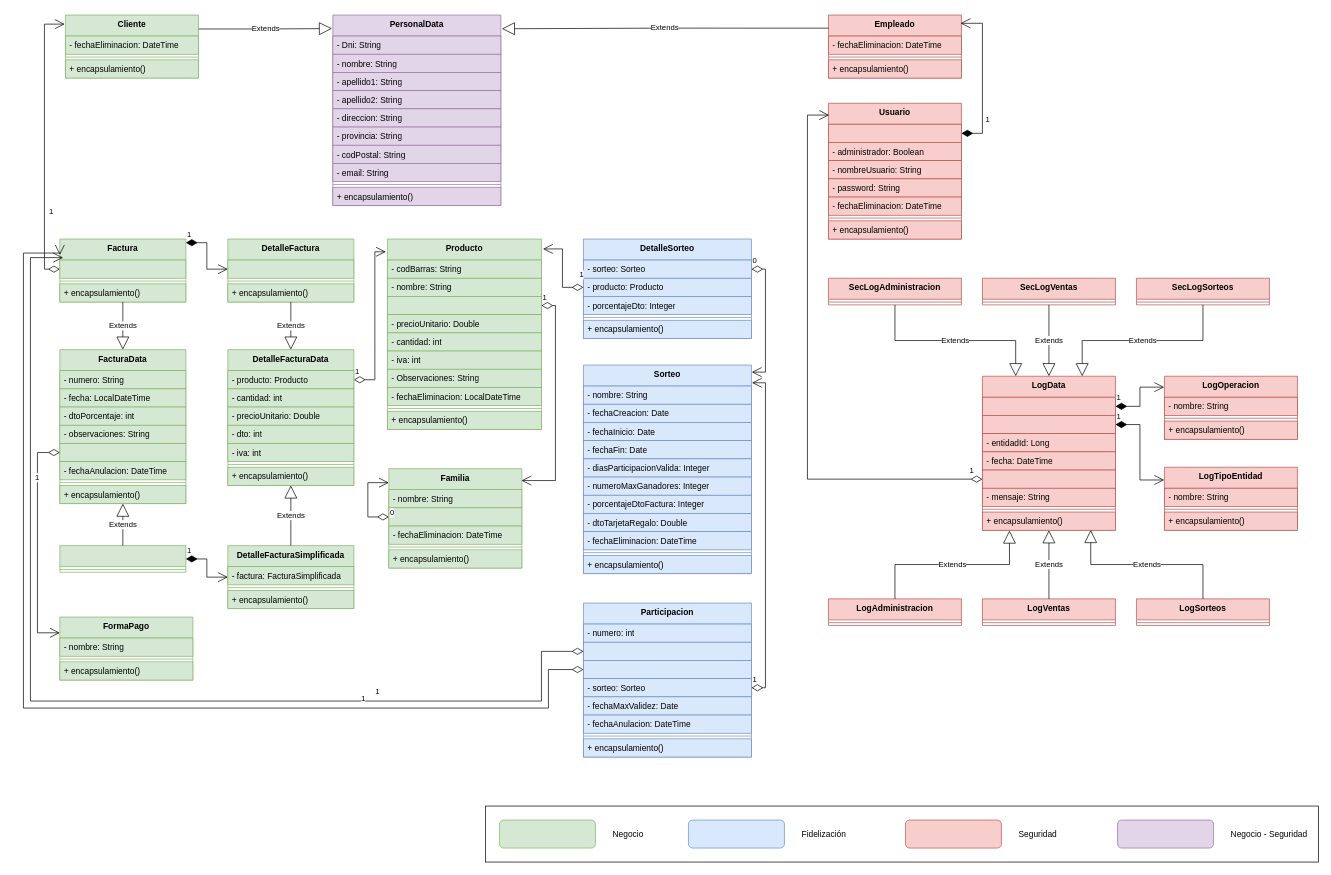
The diagram is 1331 pixels wide and 875 high, and some of its shapes have lost their labels. The centre of each missing label's shape, as x and y in pixels:
- cliente: Cliente: point (122, 268)
- empleado: Empleado: point (894, 133)
- factura: Factura: point (290, 268)
- facturaAplicacion: Factura: point (667, 669)
- facturaGeneracion: Factura: point (667, 651)
- familia: FamiliaProducto: point (464, 305)
- familiaPadre: FamiliaProducto: point (455, 516)
- formaPago: FormaPago: point (122, 452)
- operacion: LogOperacion: point (1048, 406)
- tipoEntidad: logTipoEntidad: point (1048, 424)
- usuario: Usuario: point (1048, 478)
FacturaSimplificada: point (122, 558)
